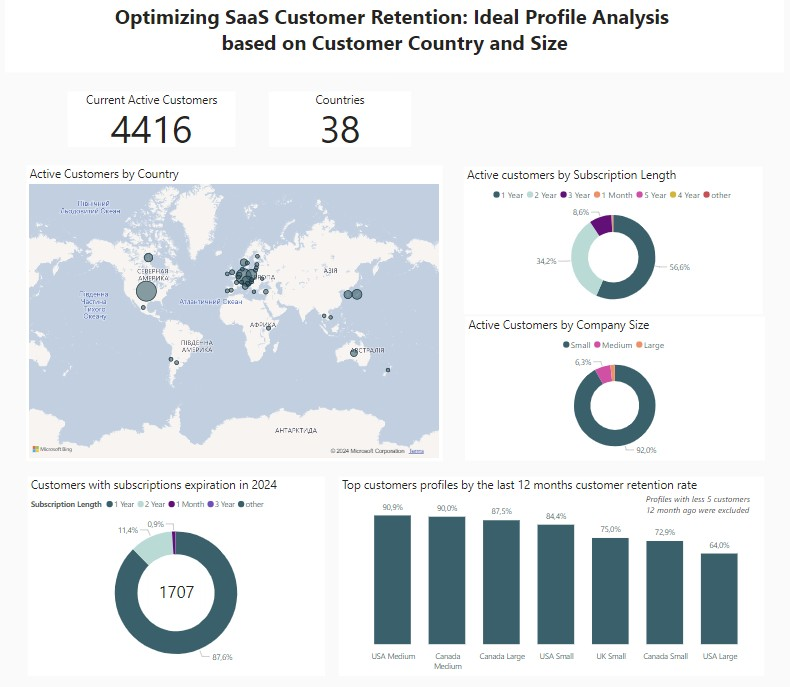

This screenshot's page, from the dashboard's own definition file:
{"tool":"powerbi","page":{"name":"Overview","canvas":[1280,1440],"ordinal":0},"visuals":[{"type":"textbox","box":[16.1,0,1246.4,117.9],"z":0},{"type":"card","title":"Countries","fields":{"Values":["Count(WGT.customer_country)"]},"box":[436.4,148.2,227.9,89.1],"z":0,"group":"g4"},{"type":"group","id":"g1","title":"Group 2","box":[51.8,764.3,1179,319.8],"z":1000},{"type":"donutChart","title":"Customers with subscriptions expiration in 2024","fields":{"Y":["Count(WGT.customer_id)"],"Category":["WGT_full.subscription_length"]},"box":[51.8,764.5,475.6,319.5],"z":1000,"group":"g1"},{"type":"card","title":"Current Active Customers","fields":{"Values":["_Measures.current_active_customers"]},"box":[115.1,148.2,269.2,89.1],"z":2000,"group":"g4"},{"type":"card","title":"Customers with subscription expiration in 2024","fields":{"Values":["Count(WGT_full.customer_id)"]},"box":[242.9,923.2,92.9,53.6],"z":2000,"group":"g1"},{"type":"group","id":"g2","title":"Group 4","box":[50,148.2,1182.1,591.1],"z":3000},{"type":"donutChart","title":"Active Customers by Company Size","fields":{"Y":["Count(WGT.customer_id)"],"Category":["WGT_full.customer_size_upd"]},"box":[751.1,509.1,479.7,230.4],"z":3000,"group":"g2"},{"type":"donutChart","title":"Active customers by Subscription Length","fields":{"Y":["Count(WGT.customer_id)"],"Category":["WGT_full.subscription_length"]},"box":[751,267.7,478.8,235.9],"z":4000,"group":"g2"},{"type":"map","title":"Active Customers by Country","fields":{"Category":["WGT_full.customer_country"],"Size":["_Measures.current_active_customers"]},"box":[50,265.6,666.4,473.9],"z":5000,"group":"g2"},{"type":"clusteredColumnChart","title":"Top customers profiles by the last 12 months customer retention rate","fields":{"Category":["WGT.Country_Size"],"Y":["_Measures.wgt_cust_retantion_rate"]},"box":[550.3,764.3,680.5,319.5],"z":6000,"group":"g3"},{"type":"textbox","box":[1036.4,786.7,193.9,62.2],"z":9000,"group":"g3"},{"type":"group","id":"g3","title":"Group 1","box":[550.3,764.3,680.5,319.5],"z":9001,"group":"g1"},{"type":"group","id":"g4","title":"Group 3","box":[115.1,148.2,549.2,89.1],"z":9003,"group":"g2"}]}

Visuals, with their boxes on the page's 1280x1440 design canvas (x1, y1, x2, y2). These are canvas units, not pixel positions in the 790x687 screenshot, which may show the page scaled, cropped or inside an application window:
textbox: [x1=16, y1=0, x2=1262, y2=118]
"Countries" card: [x1=436, y1=148, x2=664, y2=237]
"Group 2" group: [x1=52, y1=764, x2=1231, y2=1084]
"Customers with subscriptions expiration in 2024" donutChart: [x1=52, y1=764, x2=527, y2=1084]
"Current Active Customers" card: [x1=115, y1=148, x2=384, y2=237]
"Customers with subscription expiration in 2024" card: [x1=243, y1=923, x2=336, y2=977]
"Group 4" group: [x1=50, y1=148, x2=1232, y2=739]
"Active Customers by Company Size" donutChart: [x1=751, y1=509, x2=1231, y2=740]
"Active customers by Subscription Length" donutChart: [x1=751, y1=268, x2=1230, y2=504]
"Active Customers by Country" map: [x1=50, y1=266, x2=716, y2=740]
"Top customers profiles by the last 12 months customer retention rate" clusteredColumnChart: [x1=550, y1=764, x2=1231, y2=1084]
textbox: [x1=1036, y1=787, x2=1230, y2=849]
"Group 1" group: [x1=550, y1=764, x2=1231, y2=1084]
"Group 3" group: [x1=115, y1=148, x2=664, y2=237]
